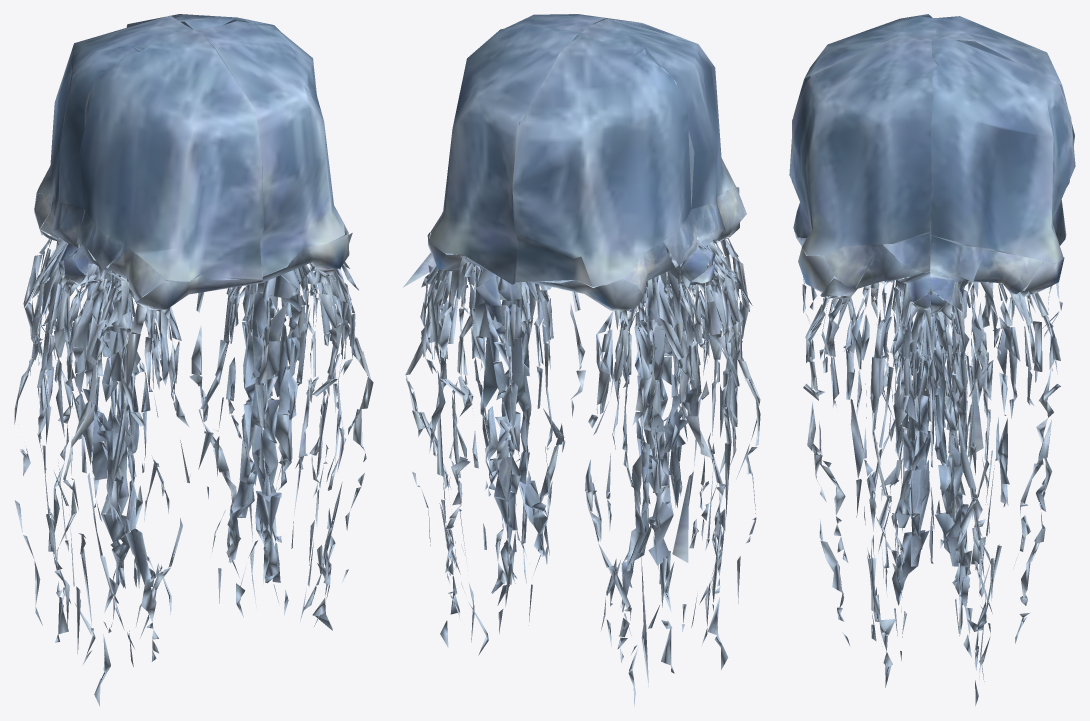
The model's file is jellyfish-phone.glb.
3 views of the same model, side by side, from view 1: azimuth 30°, elevation 25°; view 2: azimuth 150°, elevation 25°; view 3: azimuth 270°, elevation 25° (orthographic). The views are drawn at different scales.
Visible parts, largest first — view 1: Mesh_0; view 2: Mesh_0; view 3: Mesh_0.
Boxes of the visible parts, x1,y1,x2,y2 form: Mesh_0: [14, 14, 373, 706]; Mesh_0: [403, 14, 760, 706]; Mesh_0: [789, 14, 1075, 706].
Bounding box in the file's own units: 1.02 × 1.91 × 0.796.
Materials: 1 (1 with a texture image).
